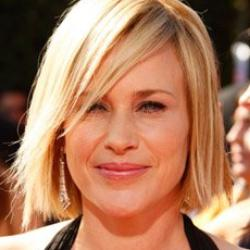face: (7, 2, 245, 233)
